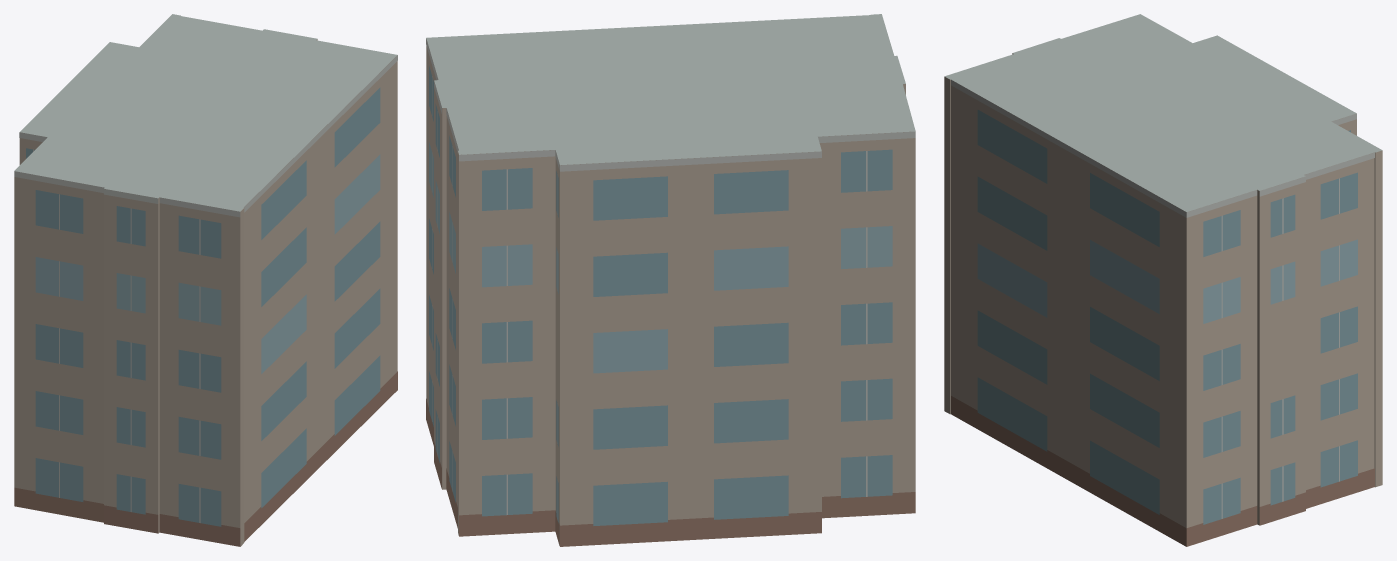
File: survey-upis-32850634.glb
3 renders of one model, left to right at view 1: azimuth 30°, elevation 25°; view 2: azimuth 150°, elevation 25°; view 3: azimuth 270°, elevation 25°, orthographic. The views are drawn at different scales.
Parts seen in each view (by area): view 1: survey-upis-32850634.tmp; view 2: survey-upis-32850634.tmp; view 3: survey-upis-32850634.tmp.
Part boxes in pixels (x1,y1,x2,y2): survey-upis-32850634.tmp: [14, 14, 397, 546]; survey-upis-32850634.tmp: [426, 14, 915, 546]; survey-upis-32850634.tmp: [944, 14, 1382, 546].
Bounding box in the file's own units: 17.98 × 14.15 × 16.81.
